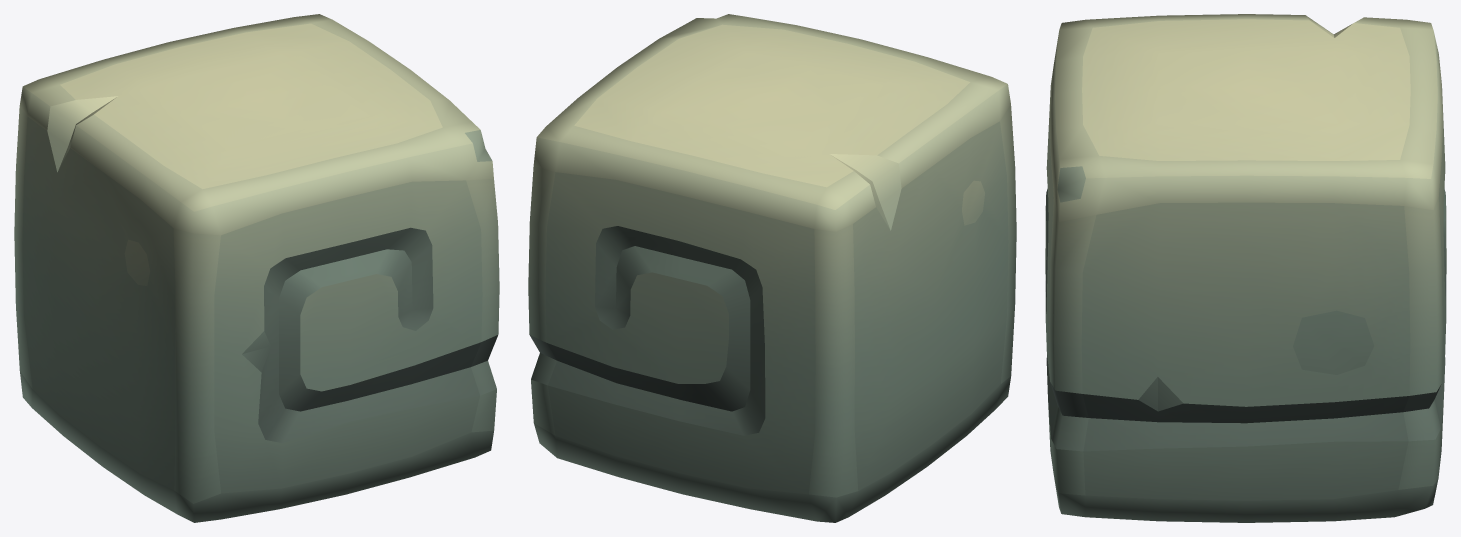
Rendered from block_stone1_7_LOD_group.fbx.
3 views of the same model, side by side, from view 1: azimuth 30°, elevation 25°; view 2: azimuth 150°, elevation 25°; view 3: azimuth 270°, elevation 25° (orthographic). The views are drawn at different scales.
Visible parts, largest first — view 1: block_stone1_7_LOD0; view 2: block_stone1_7_LOD0; view 3: block_stone1_7_LOD0.
Part boxes in pixels (x1,y1,x2,y2): block_stone1_7_LOD0: (14,14,499,522); block_stone1_7_LOD0: (528,14,1016,522); block_stone1_7_LOD0: (1045,14,1446,522).
Size of what is drawn, in the model's own units: 109 by 109 by 109.
Materials: 1 (1 with a texture image).
